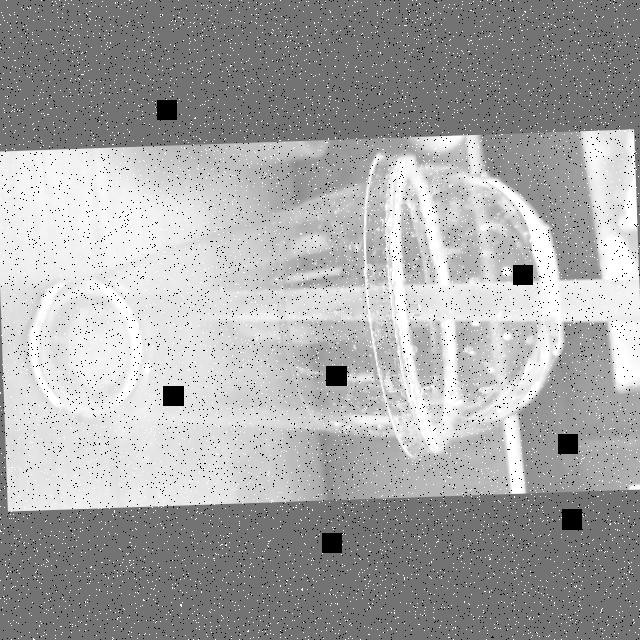plastic_cup: (21, 149, 568, 473)
plastic_cup_lid: (356, 148, 567, 464)
straw: (80, 266, 640, 342)
